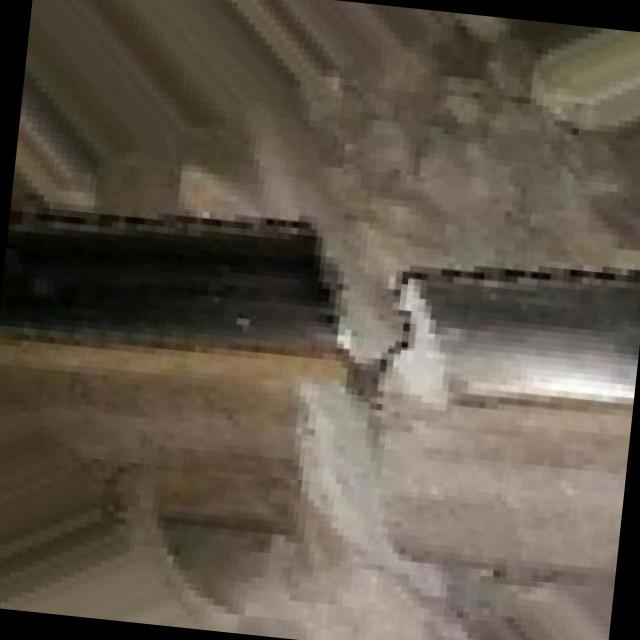defective: (153, 147, 556, 600)
